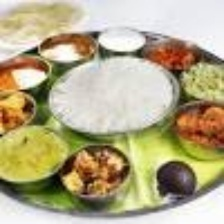rice: (53, 56, 170, 128)
